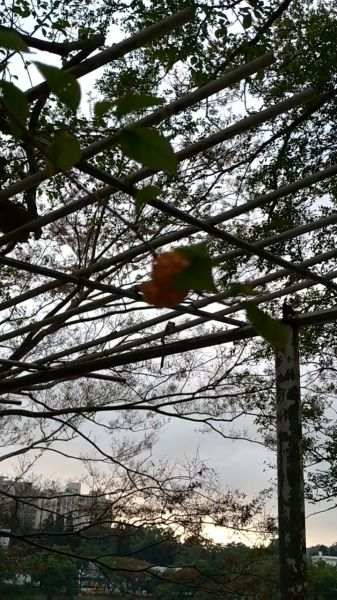eggs: (135, 251, 200, 308)
